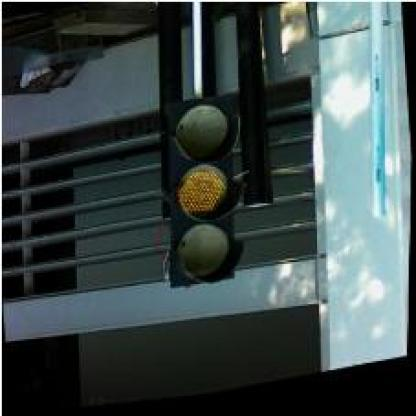yellow: (155, 94, 252, 294)
